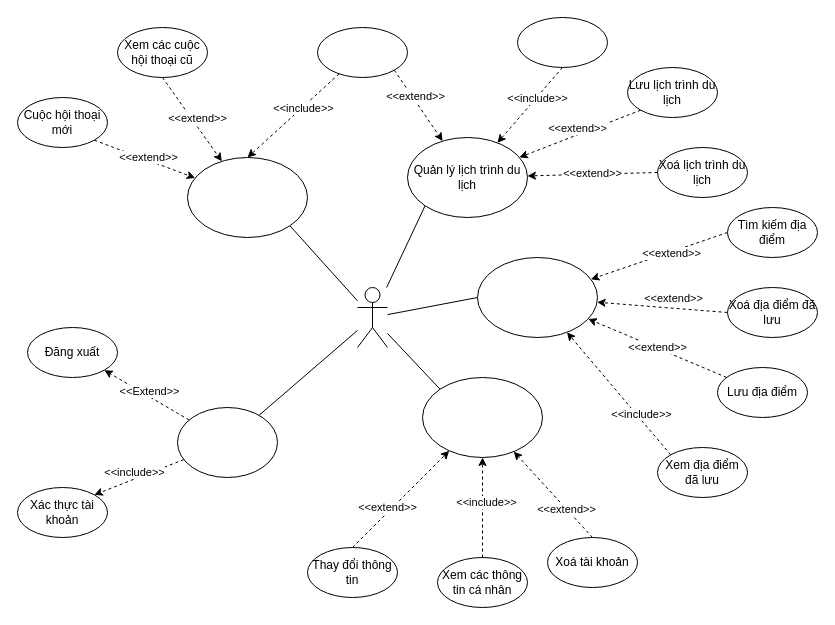
Some shapes in this 835 by 625 pixel diagram are drawn without their labels. Each missing label, with the box of its shape:
Chat với AI: (186, 156, 308, 238)
Lên lịch trình du lịch: (316, 26, 408, 78)
Người dùng: (356, 286, 388, 348)
Quản lý địa điểm du lịch: (476, 256, 598, 338)
Xem hồ sơ cá nhân: (422, 376, 542, 458)
Xem lịch trình đã lưu: (516, 16, 608, 68)
Đăng nhập: (176, 406, 278, 478)
